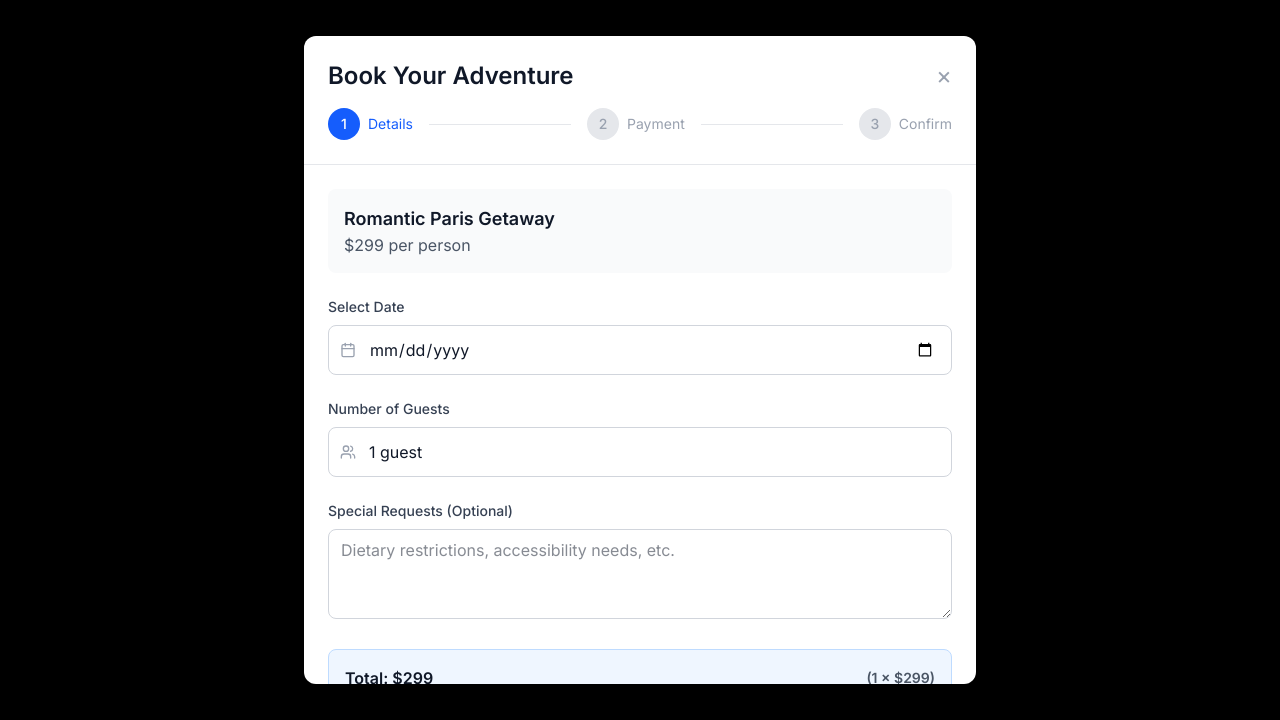
BookingFlow Component › navigates back from Payment to Details step
Go to payment step
Type "2024-12-25" into the date field labelled "Select Date" at [640, 350], box top-left (328, 325), bottom-right (952, 375)
(page scrolled)
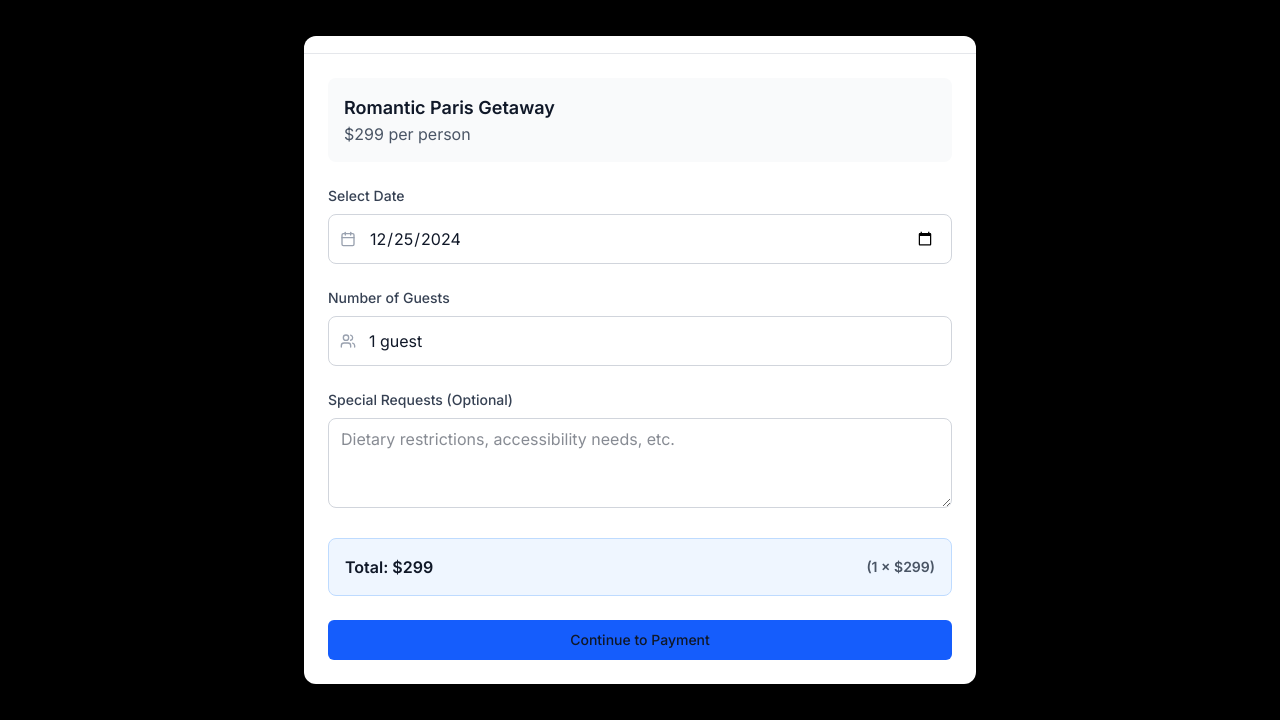
Click the button "Continue to Payment" at [640, 640], box top-left (328, 620), bottom-right (952, 660)
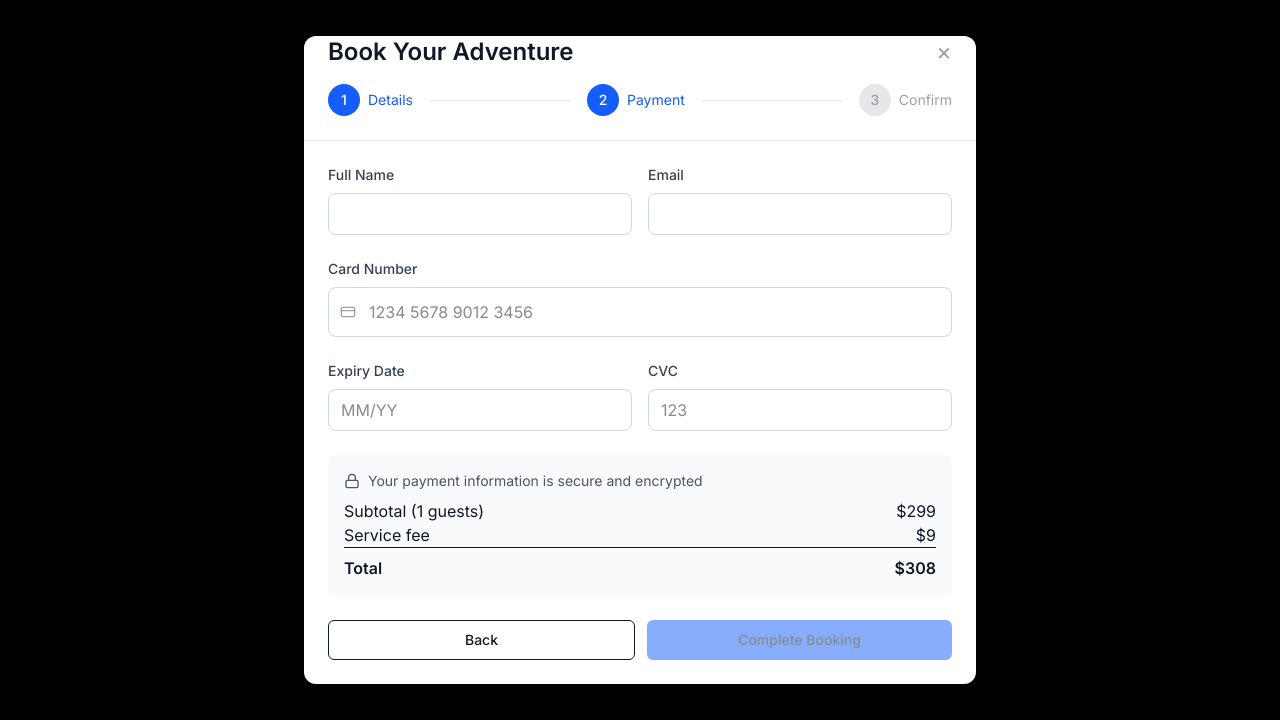
Now on payment step, click "Back"
Click the button "Back" at [482, 640], box top-left (328, 620), bottom-right (635, 660)
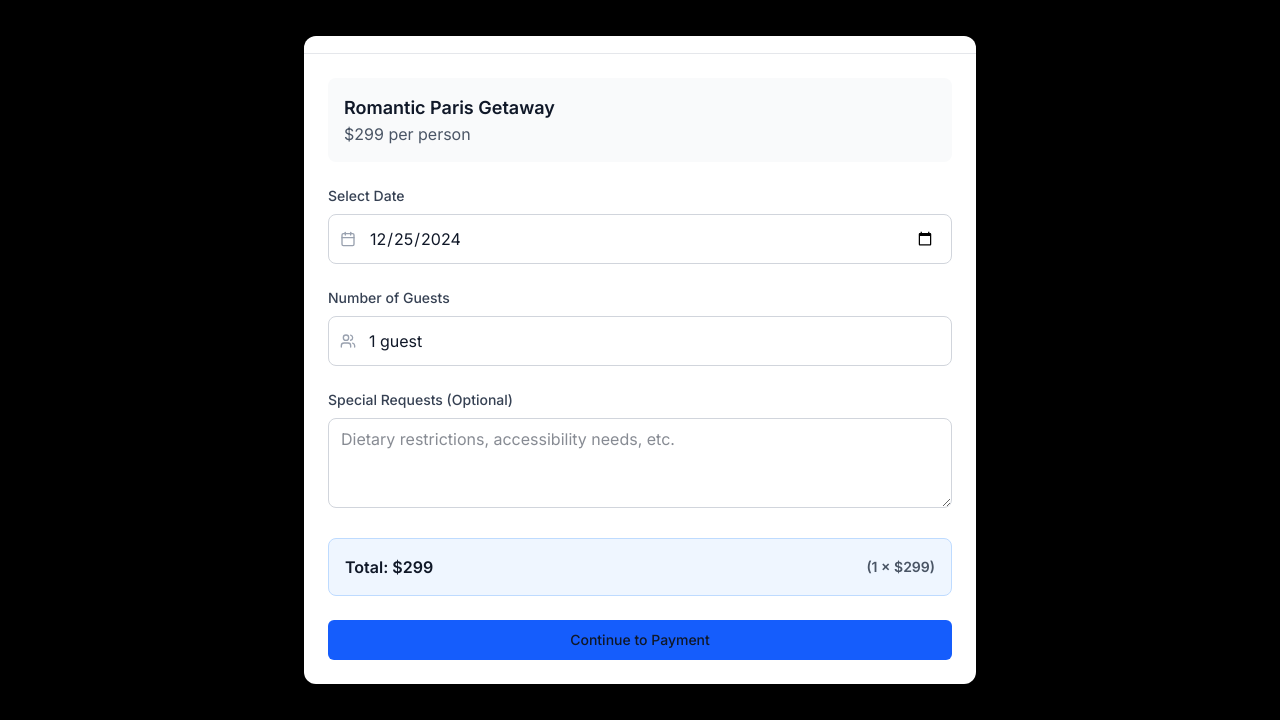
Now the date field labelled "Select Date" is shown, box top-left (328, 214), bottom-right (952, 264)
